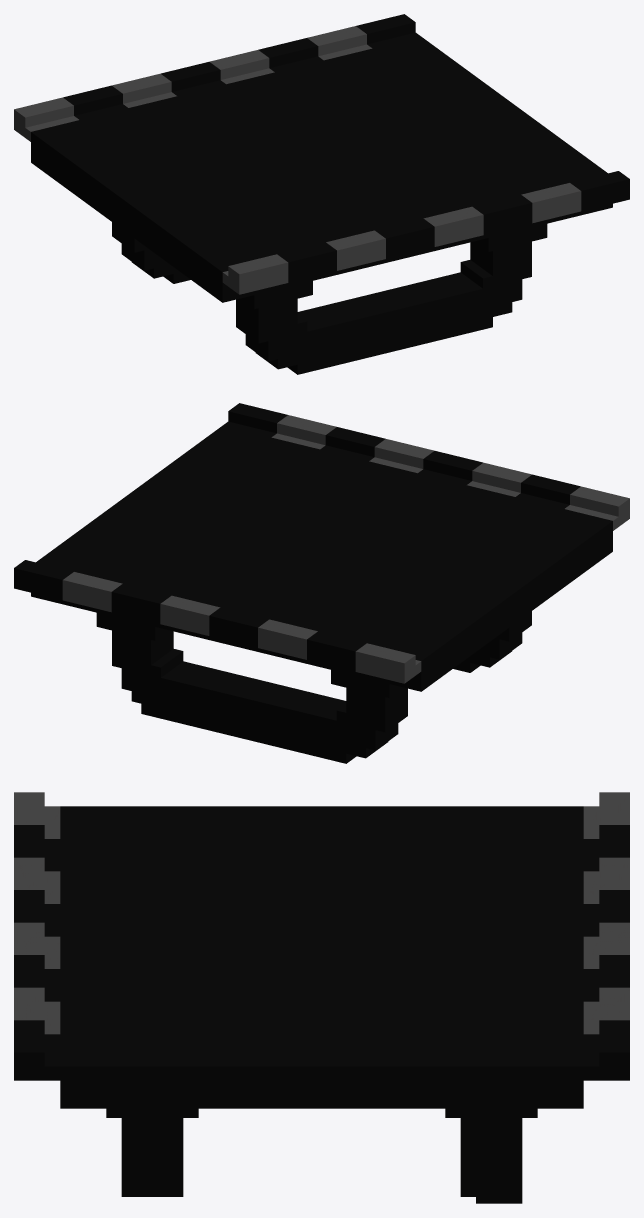
File: start.obj
The picture shows the model from 3 angles, top to bottom: view 1: azimuth 30°, elevation 25°; view 2: azimuth 150°, elevation 25°; view 3: azimuth 270°, elevation 25°; orthographic projection. The views are drawn at different scales.
Bounding box in the file's own units: 4 × 1.5 × 4.
